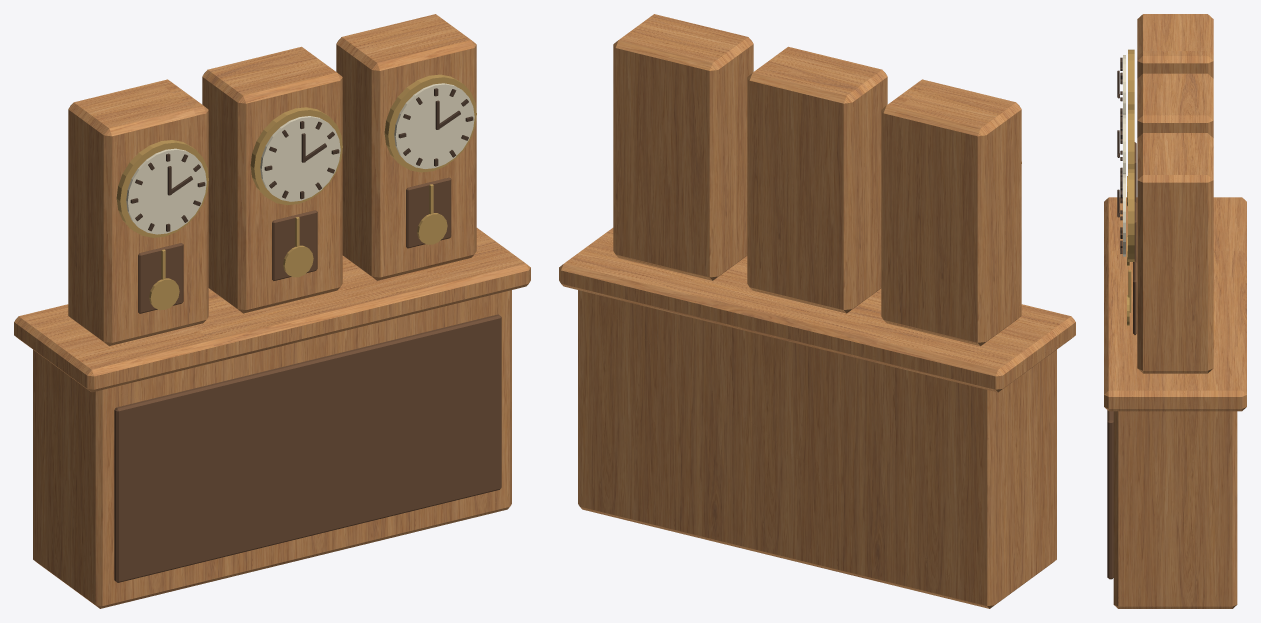
3 views of the same model, side by side, from view 1: azimuth 30°, elevation 25°; view 2: azimuth 150°, elevation 25°; view 3: azimuth 270°, elevation 25° (orthographic). The views are drawn at different scales.
Parts seen in each view (by area): view 1: oak, wood_dark, enamel_cream, brass, ink; view 2: oak; view 3: oak, wood_dark, brass, ink, enamel_cream.
Boxes of the visible parts, x1,y1,x2,y2 form: oak: (14, 14, 530, 608); wood_dark: (114, 177, 501, 582); enamel_cream: (126, 83, 474, 234); brass: (116, 74, 476, 310); ink: (130, 88, 473, 231); oak: (559, 14, 1075, 608); oak: (1104, 14, 1246, 608); wood_dark: (1107, 142, 1136, 579); brass: (1127, 49, 1134, 325); ink: (1117, 57, 1122, 253); enamel_cream: (1123, 55, 1125, 256).
Size of the model in its own units: 2.45 by 2.45 by 0.75.
Materials: 5 (1 with a texture image).
